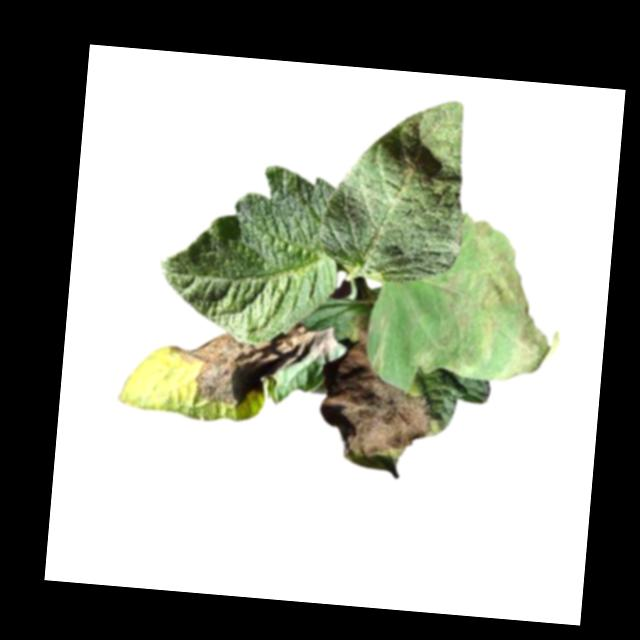Late_blight: (430, 210, 572, 387), (314, 309, 445, 468), (164, 311, 339, 415)
